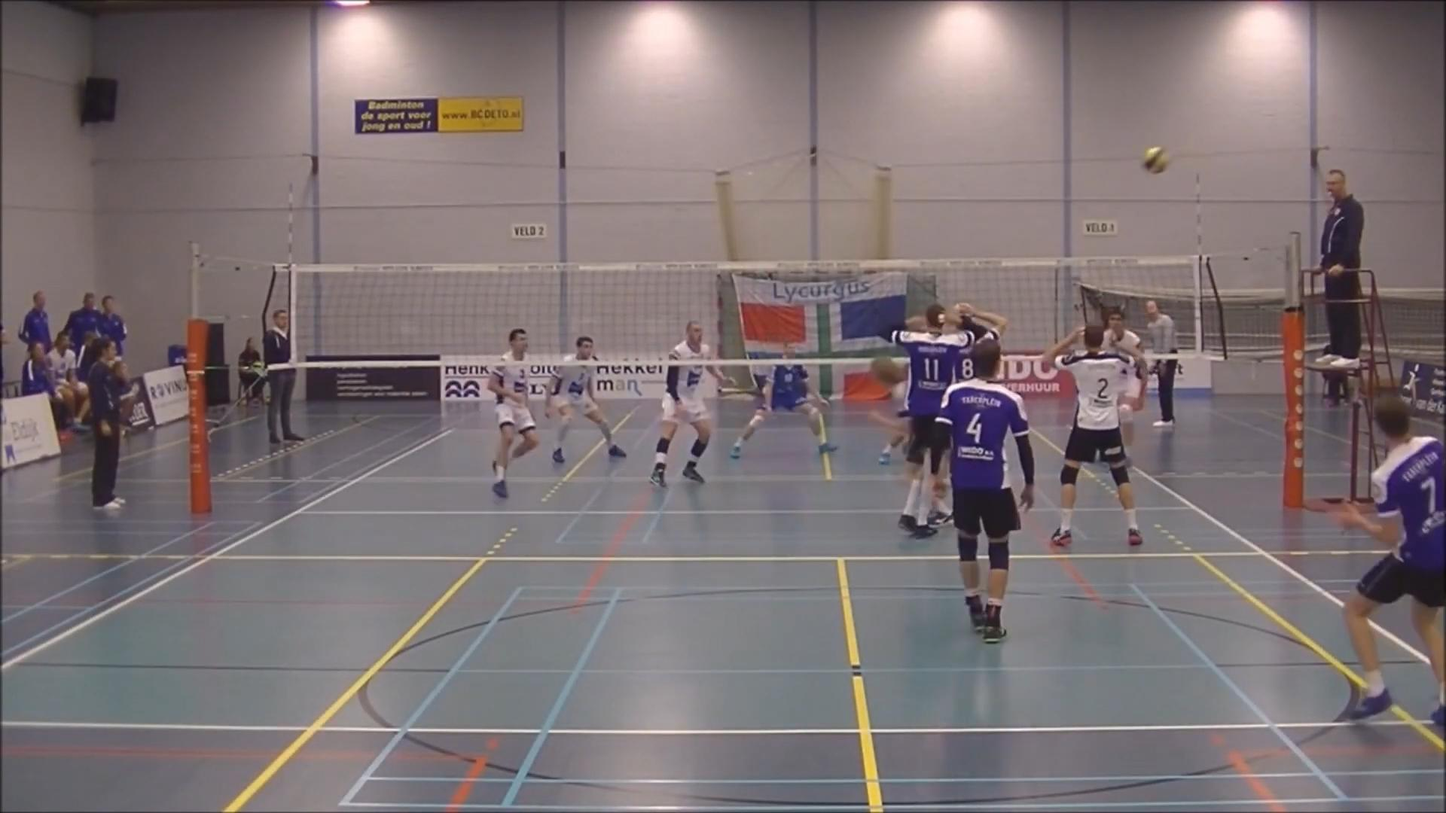battuta: (1298, 389, 1446, 723)
